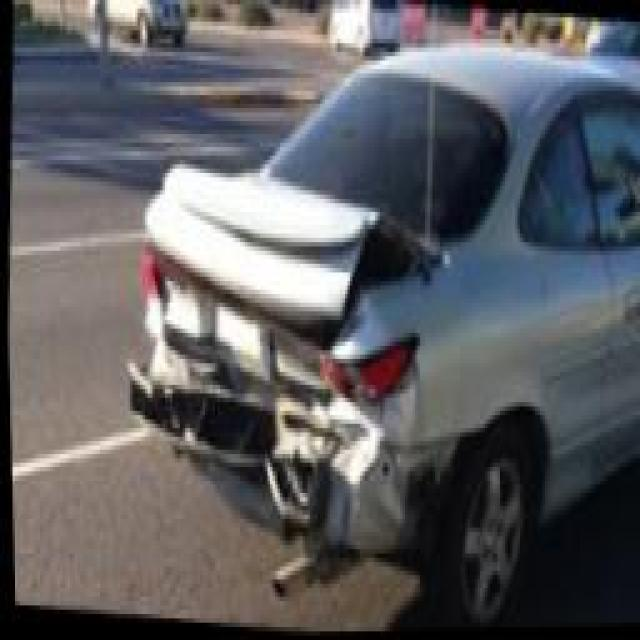Bumper: (118, 332, 451, 554)
Dickey: (141, 165, 444, 395)
